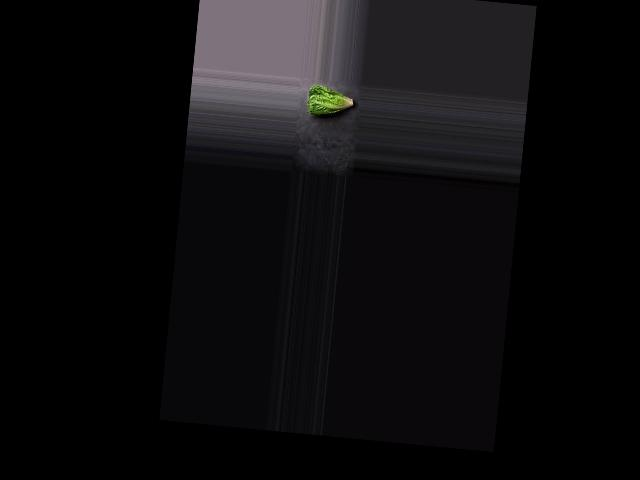lettuce: (306, 83, 358, 119)
